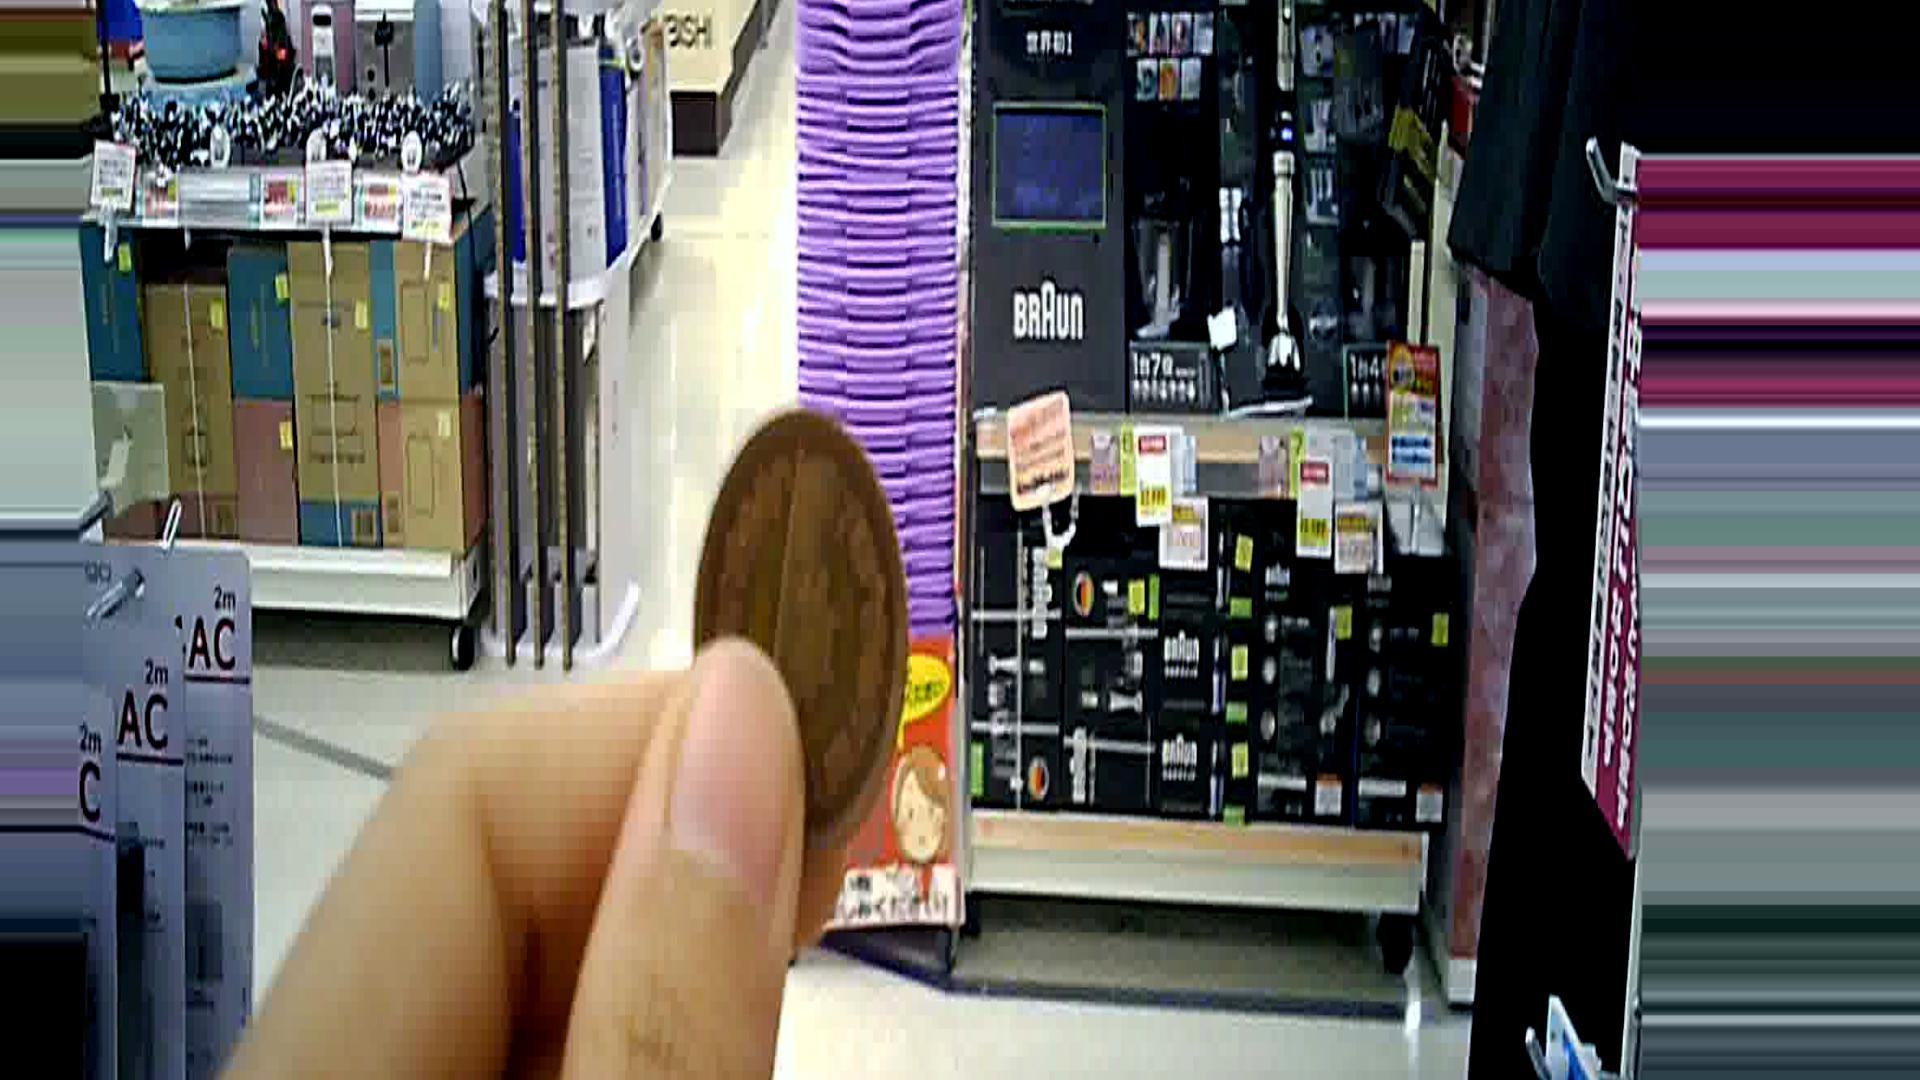10 Yen: (653, 396, 913, 858)
